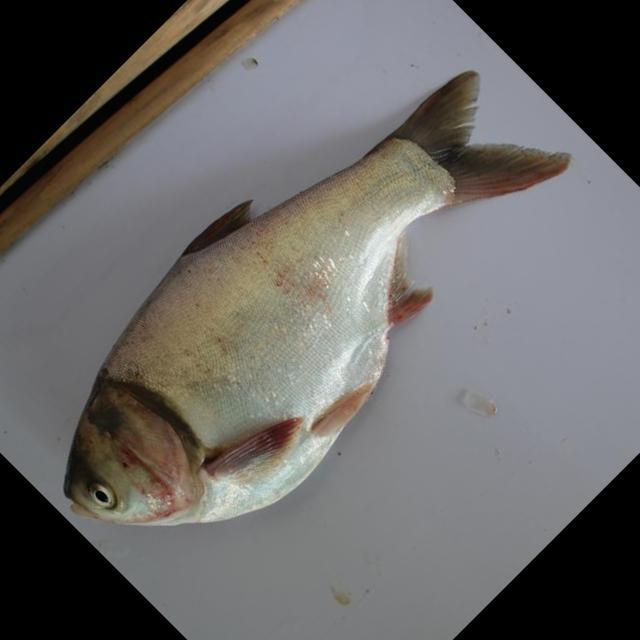SilverCarp: (78, 86, 545, 531)
